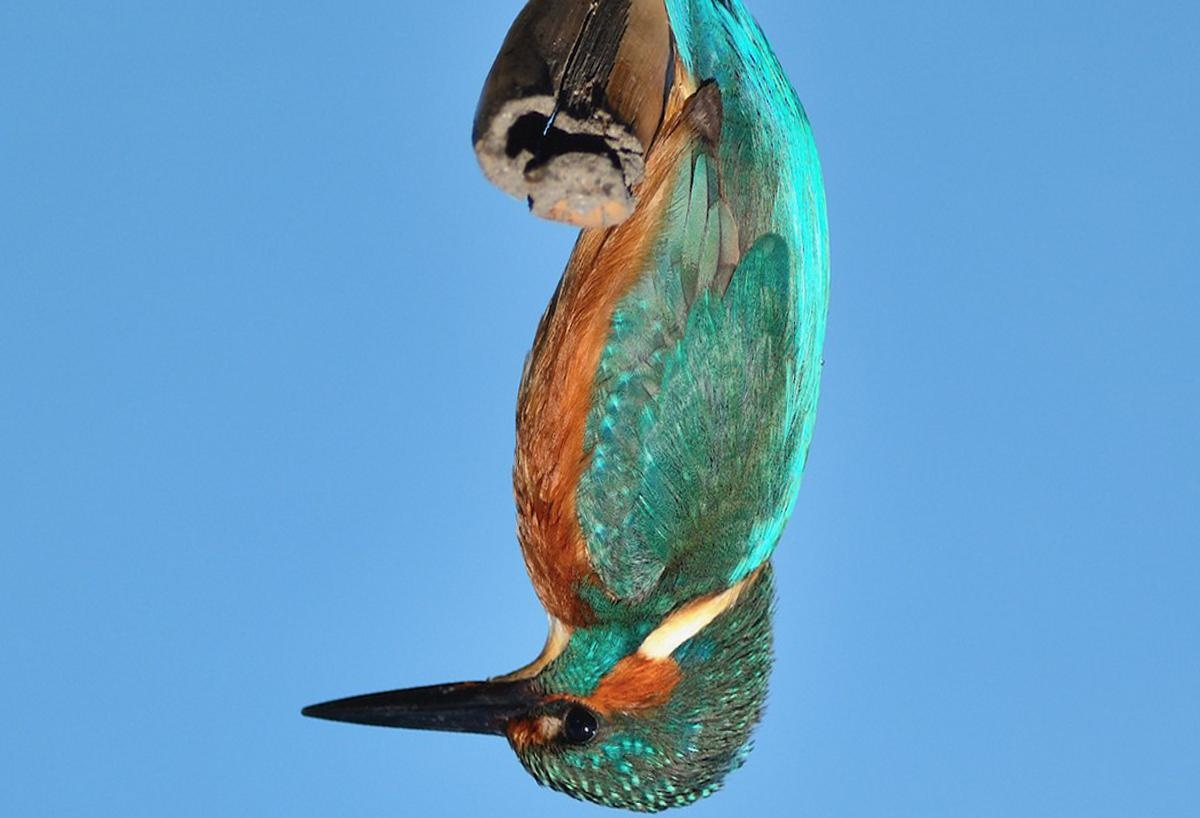kingfisher: (329, 1, 803, 814)
